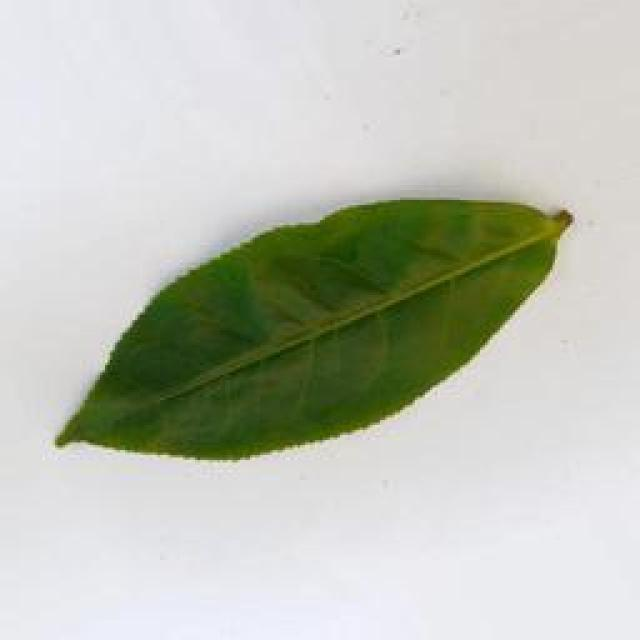Healthy: (31, 194, 583, 484)
